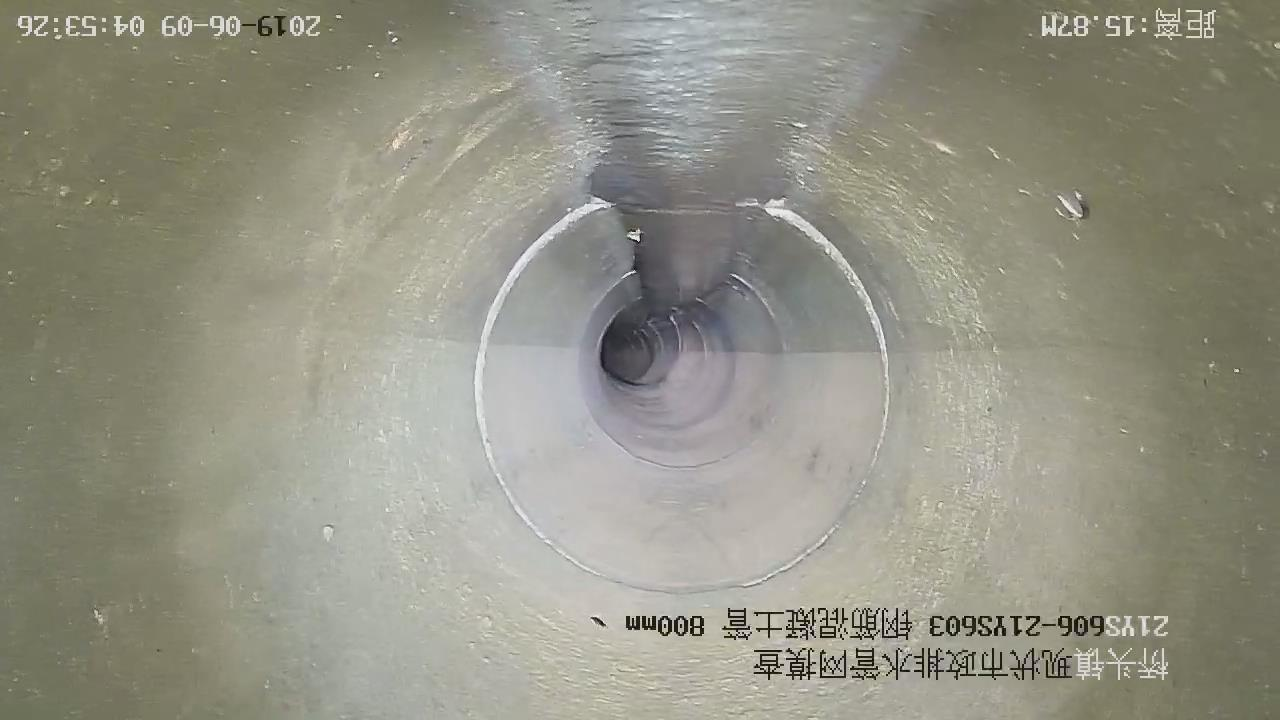CKTJ: (474, 198, 841, 595), (761, 201, 892, 514)
